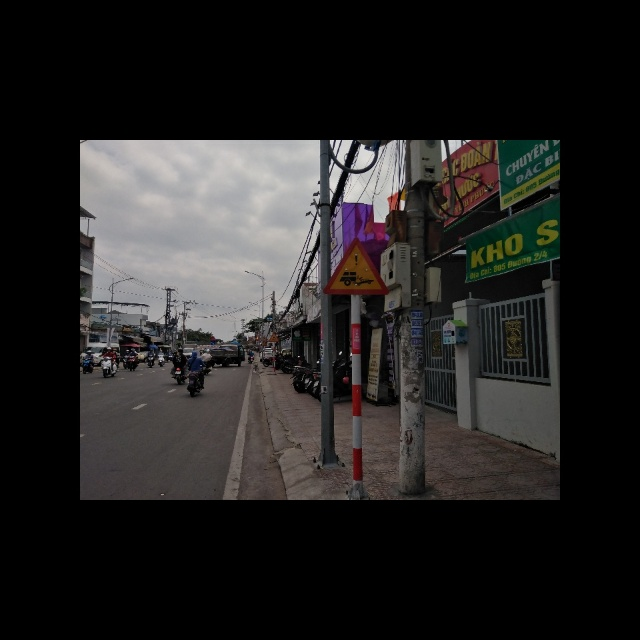Đoạn đường hay xảy ra tai nạn: (323, 236, 392, 293)
